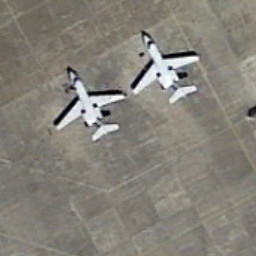Airplane: (39, 60, 132, 143), (127, 23, 208, 112)
